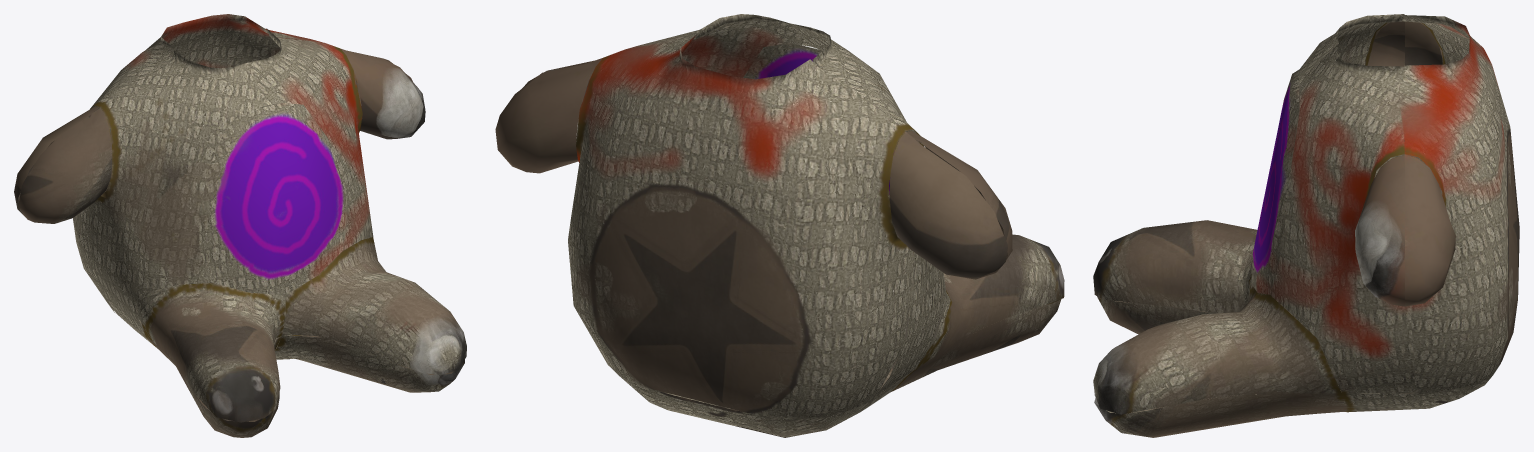
The model's file is bearbody.fbx.
3 views of the same model, side by side, from view 1: azimuth 30°, elevation 25°; view 2: azimuth 150°, elevation 25°; view 3: azimuth 270°, elevation 25° (orthographic). The views are drawn at different scales.
Parts seen in each view (by area): view 1: TeddyBear; view 2: TeddyBear; view 3: TeddyBear.
Part boxes in pixels (x1=…): TeddyBear: x1=14, y1=14, x2=466, y2=437; TeddyBear: x1=495, y1=14, x2=1064, y2=437; TeddyBear: x1=1093, y1=14, x2=1519, y2=437.
Bounding box in the file's own units: 8037 × 5610 × 6284.
1 material, 1 textured.
